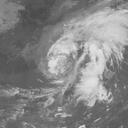cyclone: (39, 11, 115, 99)
